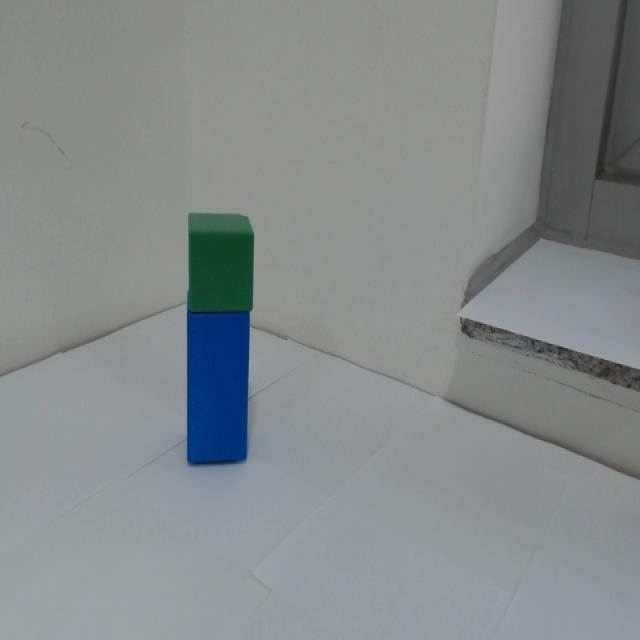cube: (182, 208, 270, 319)
